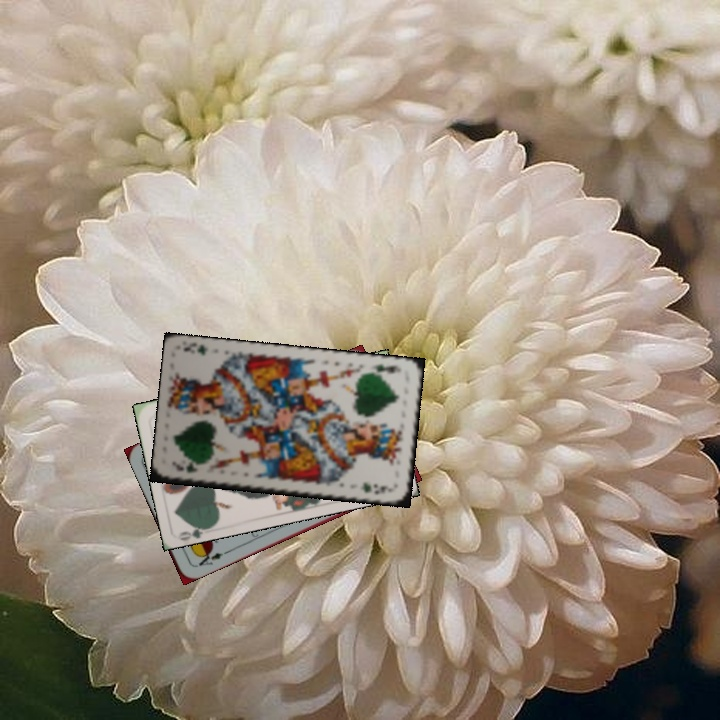EA: (191, 546, 230, 570)
GK: (367, 359, 404, 377), (173, 460, 200, 476)
GO: (176, 520, 216, 541)
